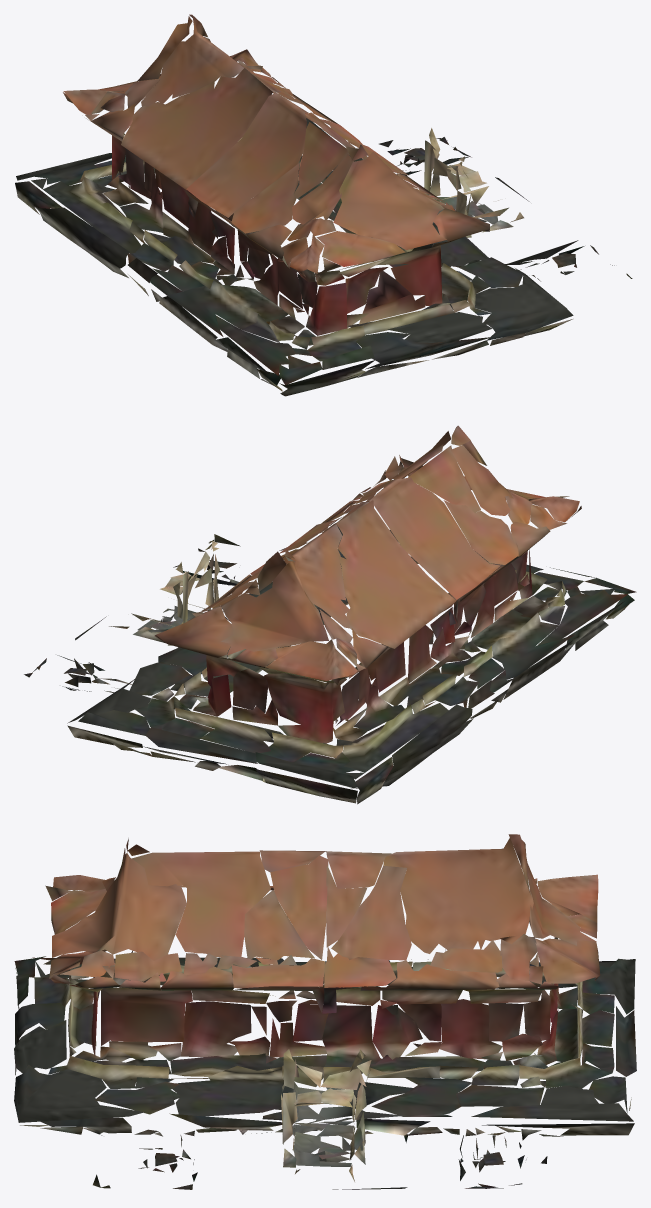
Rendered from preview.glb.
3 views of the same model, one above another, from view 1: azimuth 30°, elevation 25°; view 2: azimuth 150°, elevation 25°; view 3: azimuth 270°, elevation 25° (orthographic). The views are drawn at different scales.
Parts seen in each view (by area): view 1: zhongshan/tripo_node_e6264424-c4d5-41ed-b9c4-02a890f0daf1; view 2: zhongshan/tripo_node_e6264424-c4d5-41ed-b9c4-02a890f0daf1; view 3: zhongshan/tripo_node_e6264424-c4d5-41ed-b9c4-02a890f0daf1.
Boxes of the visible parts, <box> form: zhongshan/tripo_node_e6264424-c4d5-41ed-b9c4-02a890f0daf1: <box>15,14,632,396</box>; zhongshan/tripo_node_e6264424-c4d5-41ed-b9c4-02a890f0daf1: <box>24,425,636,804</box>; zhongshan/tripo_node_e6264424-c4d5-41ed-b9c4-02a890f0daf1: <box>14,834,636,1189</box>.
Size of the model in its own units: 0.3265 by 0.1592 by 0.401.
Materials: 1 (1 with a texture image).
